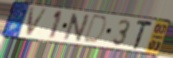1: (48, 10, 65, 40)
3: (111, 19, 131, 47)
D: (81, 14, 108, 46)
N: (62, 12, 92, 43)
T: (132, 20, 155, 51)
V: (24, 7, 50, 38)
